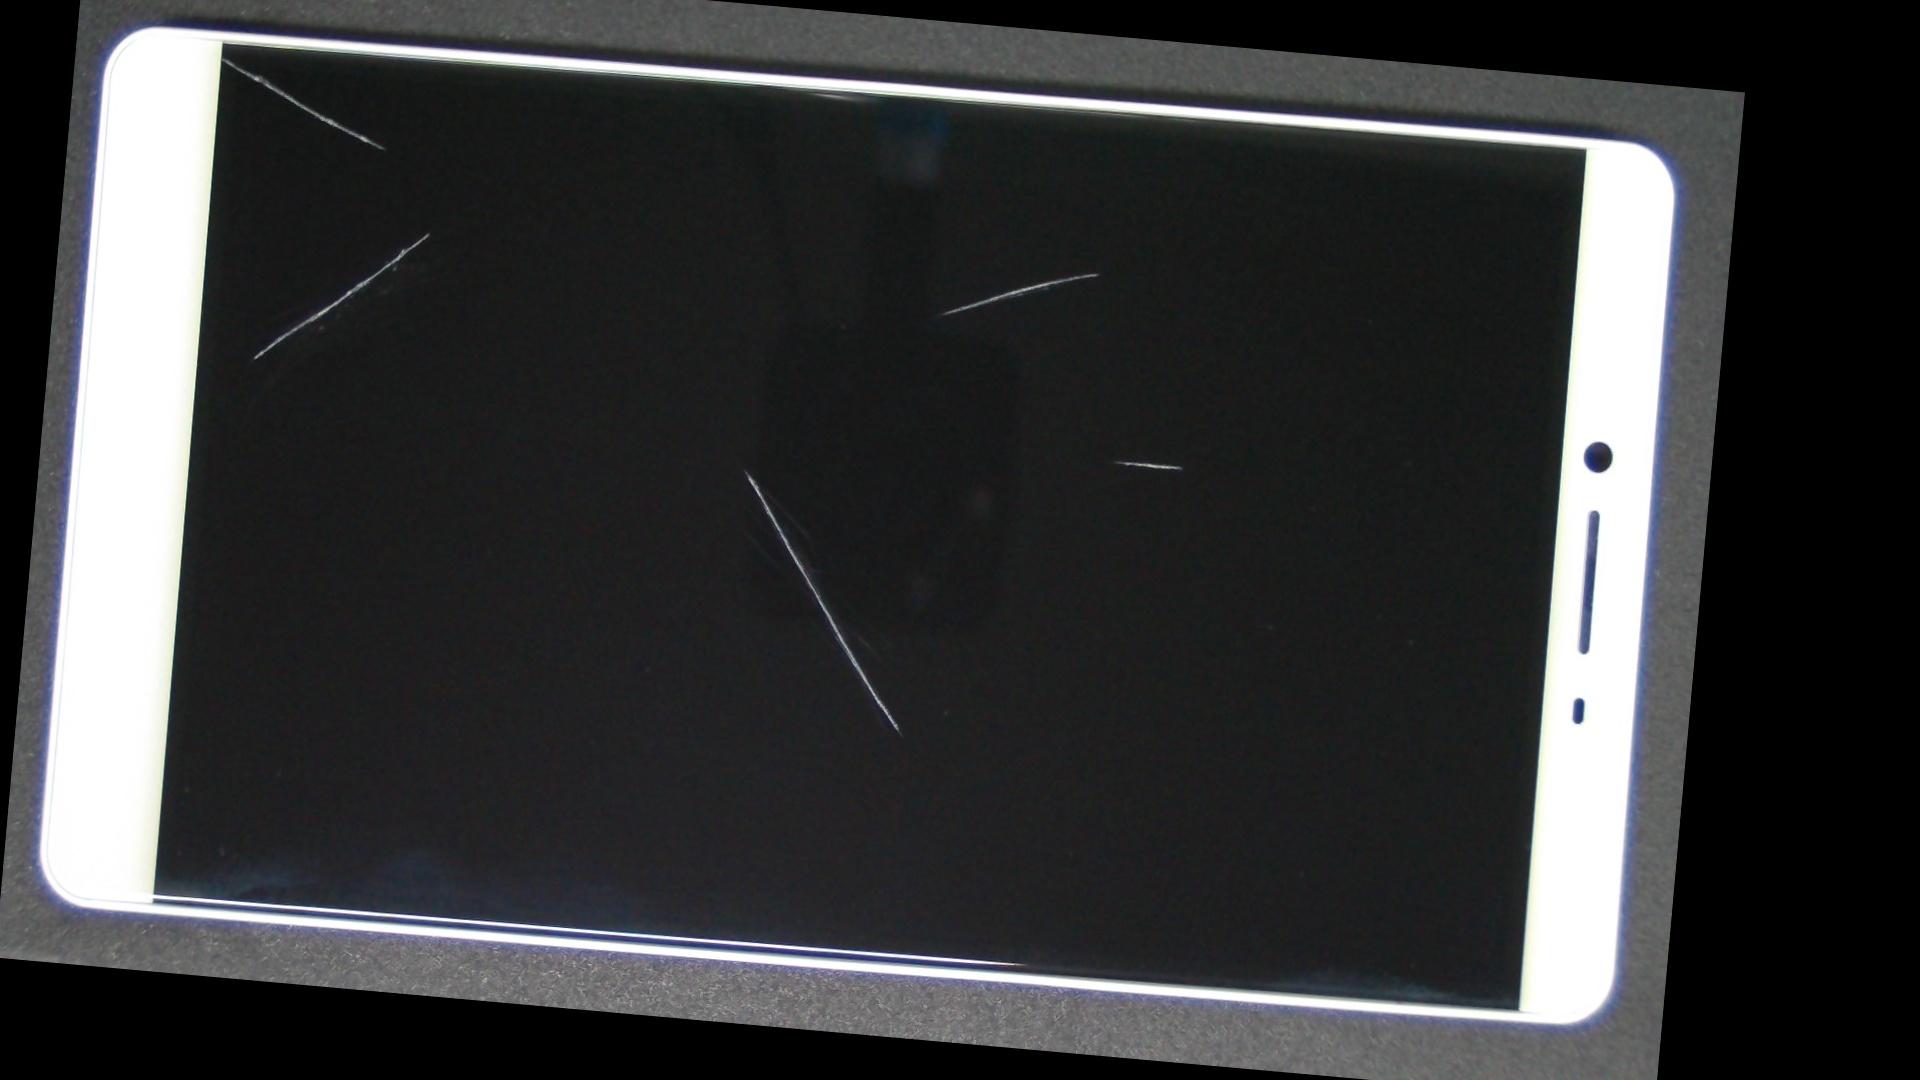oil: (575, 203, 1702, 720), (373, 206, 1114, 731), (572, 108, 1627, 436), (235, 88, 622, 377), (145, 0, 301, 113)
